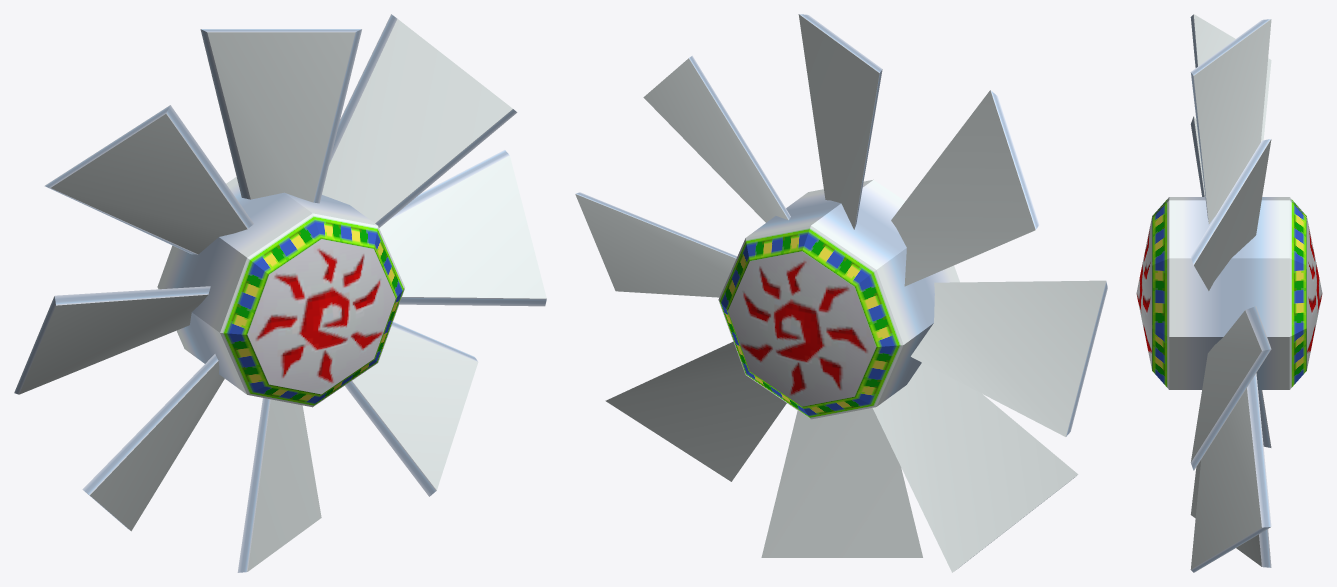
Rendered from riccowatermill.dae.
3 views of the same model, side by side, from view 1: azimuth 30°, elevation 25°; view 2: azimuth 150°, elevation 25°; view 3: azimuth 270°, elevation 25° (orthographic). The views are drawn at different scales.
Parts seen in each view (by area): view 1: n0b0; view 2: n0b0; view 3: n0b0.
Part boxes in pixels (x1,y1,x2,y2): n0b0: (14, 14, 546, 572); n0b0: (575, 14, 1107, 572); n0b0: (1136, 14, 1322, 572).
Size of the model in its own units: 750 by 750 by 256.
1 material, 1 textured.
